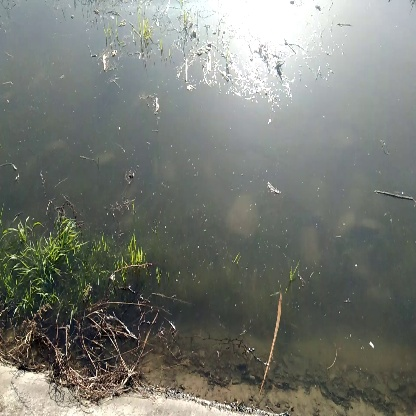branch: (367, 181, 416, 206)
grass: (3, 223, 112, 300)
